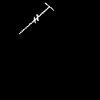treble_crochet: (20, 3, 51, 32)
